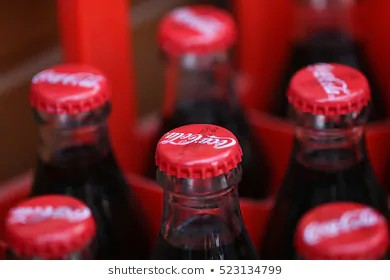coke-glass-bottle: (143, 121, 265, 259), (279, 56, 379, 188), (27, 54, 126, 184)
